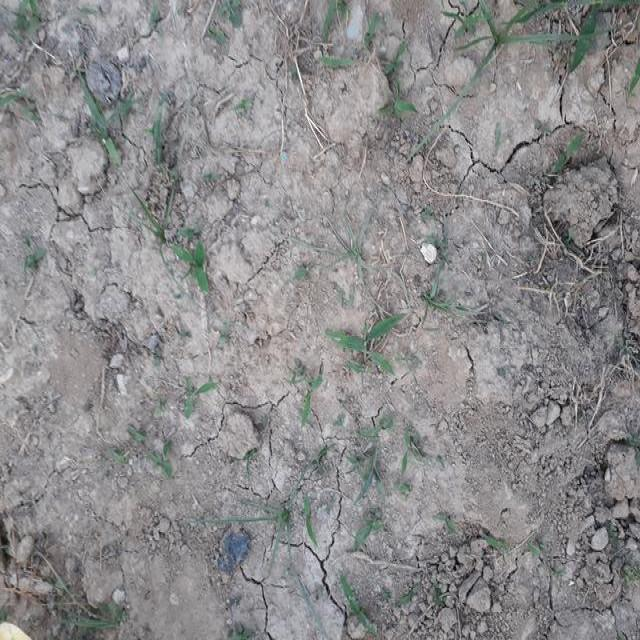weed: (460, 0, 579, 60), (203, 504, 298, 560), (66, 93, 136, 167), (332, 325, 396, 378), (62, 0, 111, 56), (170, 236, 213, 298), (380, 35, 408, 126), (350, 446, 390, 507), (177, 379, 209, 423), (302, 368, 325, 423)
